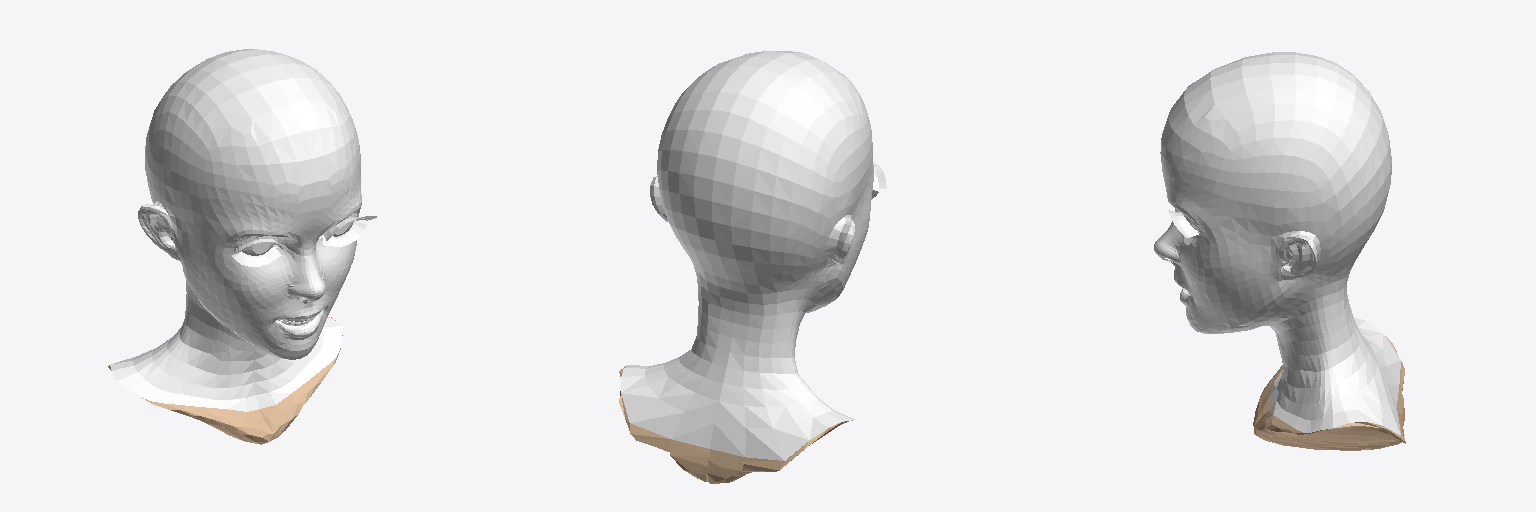
3 views of the same model, side by side, from view 1: azimuth 30°, elevation 25°; view 2: azimuth 150°, elevation 25°; view 3: azimuth 270°, elevation 25° (orthographic).
Visible parts, largest first — view 1: Body, Eyelashes; view 2: Body; view 3: Body.
Boxes of the visible parts, x1=… form: Body: x1=110, y1=49, x2=361, y2=411; Eyelashes: x1=232, y1=216, x2=376, y2=266; Body: x1=621, y1=51, x2=873, y2=460; Body: x1=1154, y1=52, x2=1400, y2=434.
Size of the model in its own units: 23 by 37.41 by 22.1.